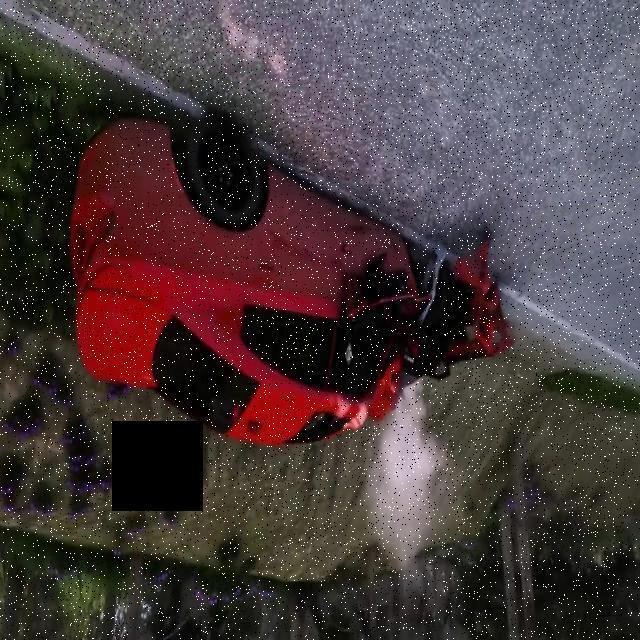vehicle: (57, 82, 545, 493)
